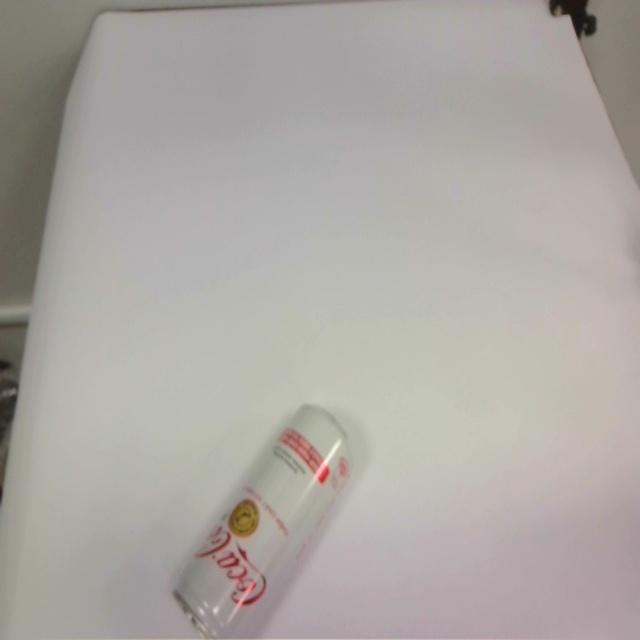debris: (171, 403, 353, 640)
